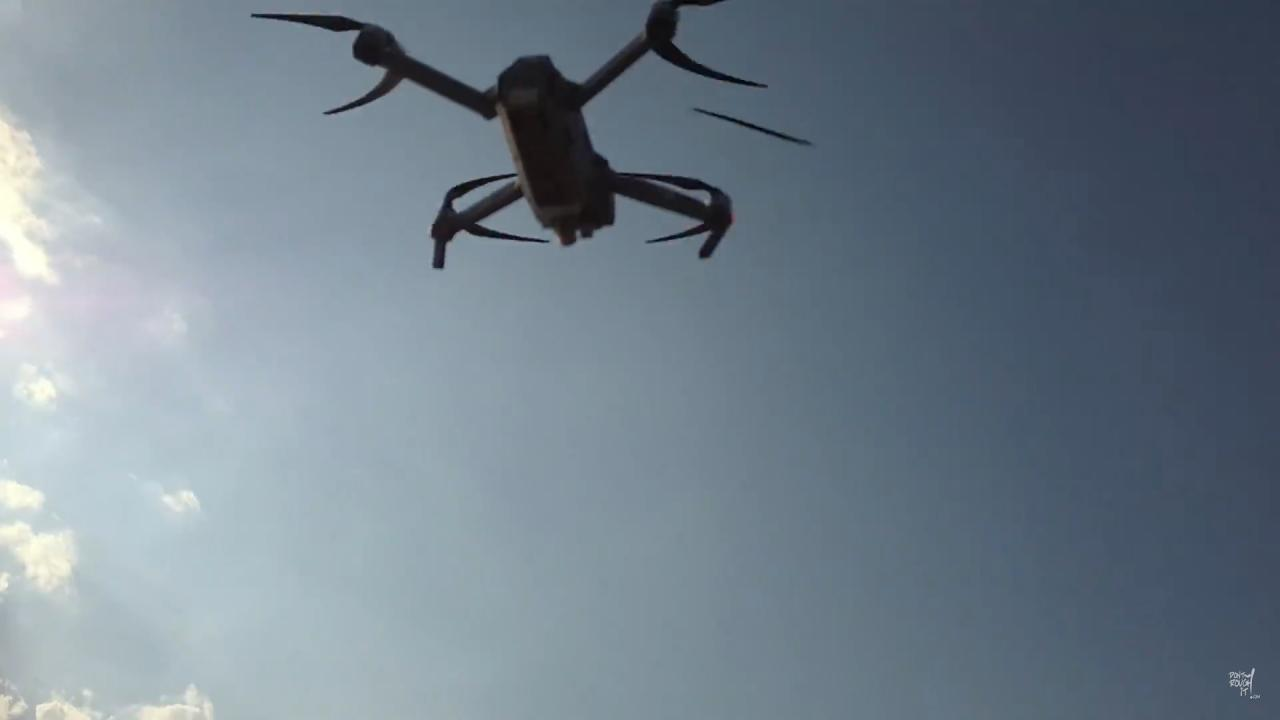Drone: (227, 0, 795, 295)
